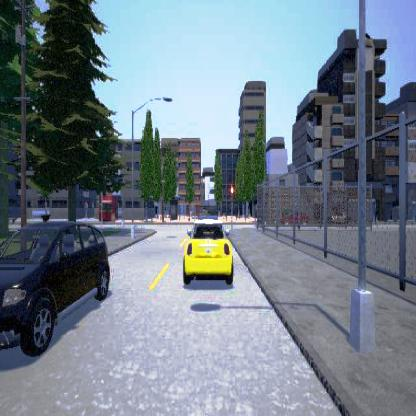vehicle: (0, 220, 109, 356), (182, 214, 232, 284)
